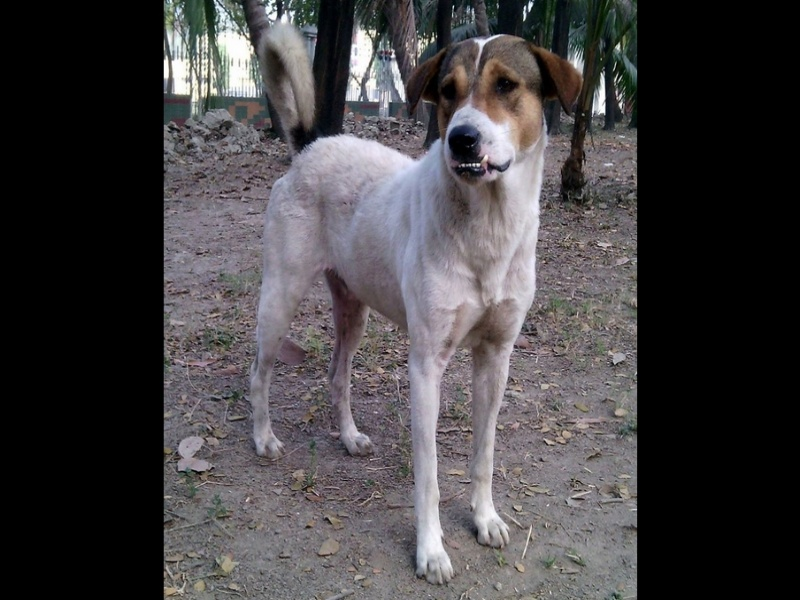dog: (234, 30, 590, 577)
